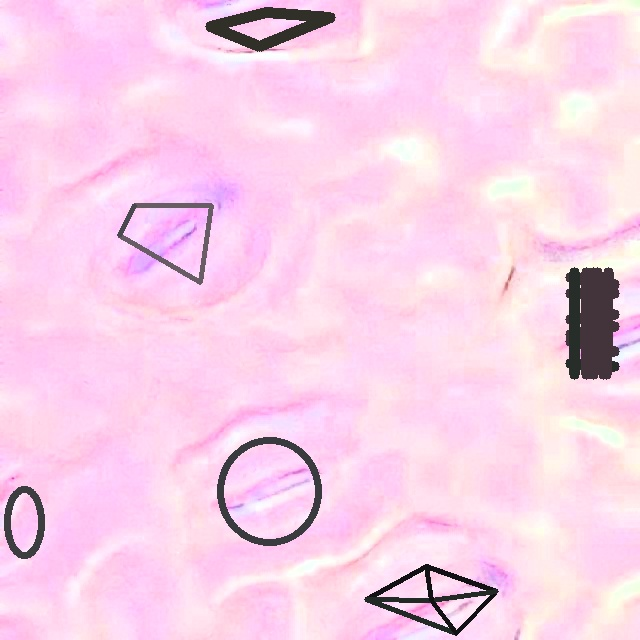open: (218, 438, 321, 544), (364, 564, 498, 635), (117, 203, 213, 284), (565, 267, 618, 379), (205, 8, 334, 50), (5, 485, 44, 558)
